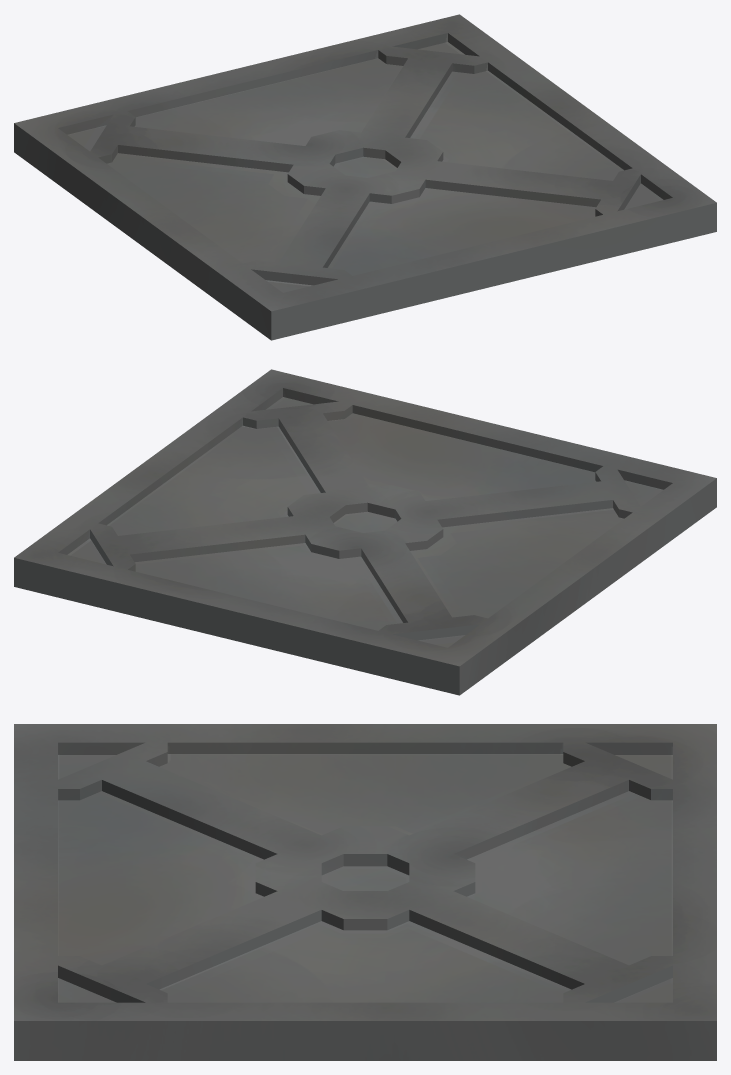
Rendered from wall29.glb.
3 views of the same model, one above another, from view 1: azimuth 30°, elevation 25°; view 2: azimuth 150°, elevation 25°; view 3: azimuth 270°, elevation 25° (orthographic). The views are drawn at different scales.
Parts seen in each view (by area): view 1: Cube; view 2: Cube; view 3: Cube.
Part boxes in pixels (box(x1,y1,x2,y2)): Cube: box(14, 14, 716, 340); Cube: box(14, 369, 716, 695); Cube: box(14, 724, 716, 1060).
Size of the model in its own units: 2 by 0.125 by 2.
1 material, 1 textured.
